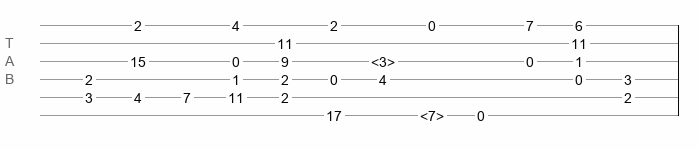0: (232, 54, 240, 64), (330, 72, 338, 82), (428, 18, 436, 28), (477, 108, 485, 118), (526, 54, 534, 64), (575, 72, 583, 82)
1: (232, 72, 240, 82), (575, 54, 583, 64)
11: (228, 90, 244, 100), (277, 36, 293, 46), (571, 36, 587, 46)
15: (130, 54, 146, 64)
17: (326, 108, 342, 118)
2: (85, 72, 93, 82), (134, 18, 142, 28), (281, 72, 289, 82), (281, 90, 289, 100), (330, 18, 338, 28), (624, 90, 632, 100)
3: (85, 90, 93, 100), (624, 72, 632, 82)
4: (134, 90, 142, 100), (232, 18, 240, 28), (379, 72, 387, 82)
6: (575, 18, 583, 28)
7: (183, 90, 191, 100), (526, 18, 534, 28)
9: (281, 54, 289, 64)
harmonic: (371, 54, 395, 64), (420, 108, 444, 118)
